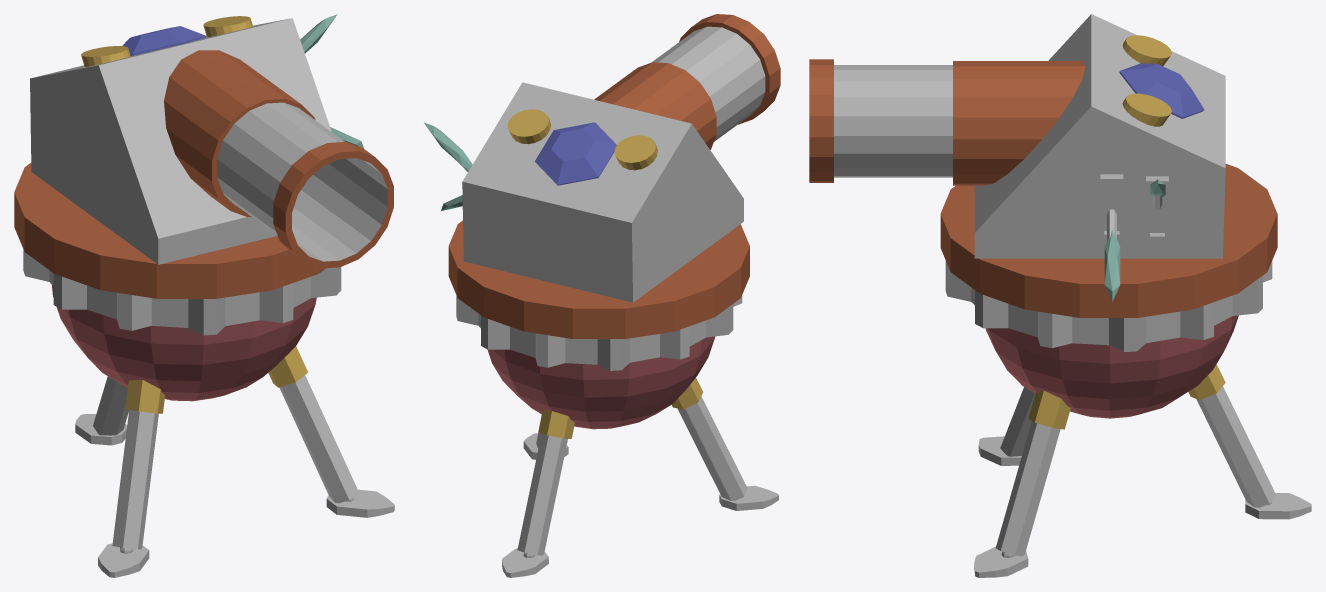
Rendered from Turret.fbx.
The picture shows the model from 3 angles, left to right: view 1: azimuth 30°, elevation 25°; view 2: azimuth 150°, elevation 25°; view 3: azimuth 270°, elevation 25°; orthographic projection. The views are drawn at different scales.
Visible parts, largest first — view 1: Cube.001, Cylinder.013, Cylinder.007, Sphere, Cylinder.012, Cylinder.006, Leg, Leg.001, Leg.002, Helmet.003, Feet.001, Feet (+4 smaller); view 2: Cube.001, Cylinder.007, Sphere, Cylinder.013, Cylinder.006, Cylinder.012, Leg.002, Helmet.003, Leg, Cylinder.009, Cylinder.008, Feet.002 (+2 smaller); view 3: Cube.001, Cylinder.007, Cylinder.013, Sphere, Cylinder.012, Cylinder.006, Leg.001, Leg.002, Helmet.003, Leg, Feet.002, Feet.001 (+4 smaller).
Boxes of the visible parts, x1,y1,x2,y2 form: Cube.001: [30, 18, 331, 264]; Cylinder.013: [217, 102, 393, 268]; Cylinder.007: [14, 163, 325, 298]; Sphere: [52, 285, 316, 401]; Cylinder.012: [164, 50, 315, 217]; Cylinder.006: [23, 249, 341, 335]; Leg: [112, 379, 165, 549]; Leg.001: [268, 346, 358, 503]; Leg.002: [93, 376, 128, 435]; Helmet.003: [122, 26, 205, 55]; Feet.001: [326, 489, 394, 517]; Feet: [98, 543, 149, 577]; Cube.001: [462, 82, 743, 302]; Cylinder.007: [448, 220, 749, 338]; Sphere: [487, 336, 715, 429]; Cylinder.013: [652, 14, 780, 141]; Cylinder.006: [456, 295, 742, 370]; Cylinder.012: [594, 62, 716, 149]; Leg.002: [517, 410, 574, 555]; Helmet.003: [535, 122, 616, 185]; Leg: [672, 378, 747, 500]; Cylinder.009: [614, 135, 657, 170]; Cylinder.008: [507, 109, 550, 144]; Feet.002: [502, 548, 548, 577]; Cube.001: [974, 14, 1225, 258]; Cylinder.007: [940, 164, 1277, 317]; Cylinder.013: [809, 59, 952, 182]; Sphere: [985, 315, 1238, 418]; Cylinder.012: [953, 61, 1085, 185]; Cylinder.006: [945, 261, 1272, 351]; Leg.001: [995, 390, 1070, 556]; Leg.002: [1188, 364, 1276, 507]; Helmet.003: [1119, 63, 1204, 118]; Leg: [1000, 387, 1035, 456]; Feet.002: [1245, 493, 1311, 519]; Feet.001: [974, 546, 1028, 577].
Size of the model in its own units: 84.46 by 114 by 115.
